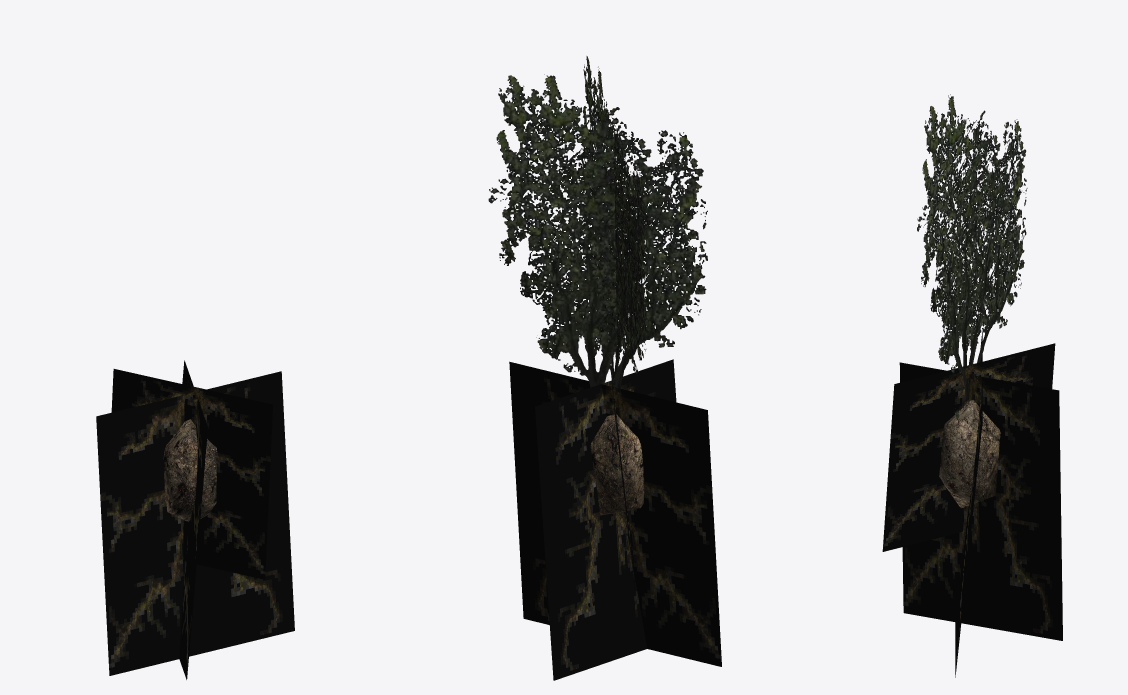
The model's file is ITPL_TEMP_HERB.glb.
The picture shows the model from 3 angles, left to right: view 1: azimuth 30°, elevation 25°; view 2: azimuth 150°, elevation 25°; view 3: azimuth 270°, elevation 25°; orthographic projection. The views are drawn at different scales.
Parts seen in each view (by area): view 1: Mesh; view 2: Mesh; view 3: Mesh.
Part boxes in pixels (bbox=[...]): Mesh: bbox=[96, 360, 294, 679]; Mesh: bbox=[488, 56, 721, 680]; Mesh: bbox=[882, 94, 1062, 677].
Bounding box in the file's own units: 0.7906 × 1.47 × 0.6203.
3 materials, 3 textured.
